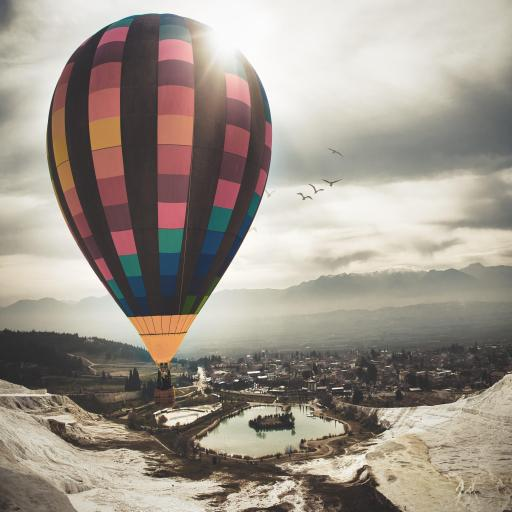bird: (321, 179, 343, 187), (308, 184, 324, 194), (327, 148, 343, 157), (296, 193, 313, 200), (264, 189, 276, 198)
hot air ballon: (45, 13, 274, 407)
